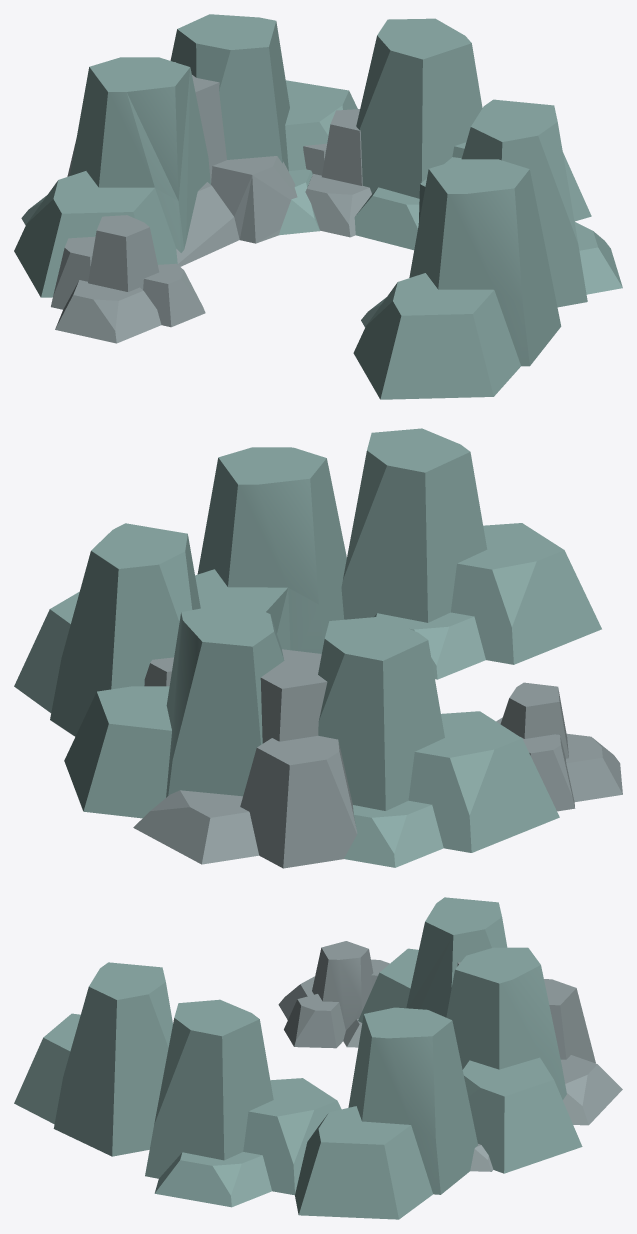
File: mountains.fbx
The picture shows the model from 3 angles, top to bottom: view 1: azimuth 30°, elevation 25°; view 2: azimuth 150°, elevation 25°; view 3: azimuth 270°, elevation 25°; orthographic projection. The views are drawn at different scales.
Visible parts, largest first — view 1: mountains; view 2: mountains; view 3: mountains.
Part boxes in pixels (bbox=[...]): mountains: bbox=[14, 14, 622, 399]; mountains: bbox=[14, 428, 622, 868]; mountains: bbox=[14, 897, 622, 1219].
Size of the model in its own units: 2149 by 631 by 2416.
